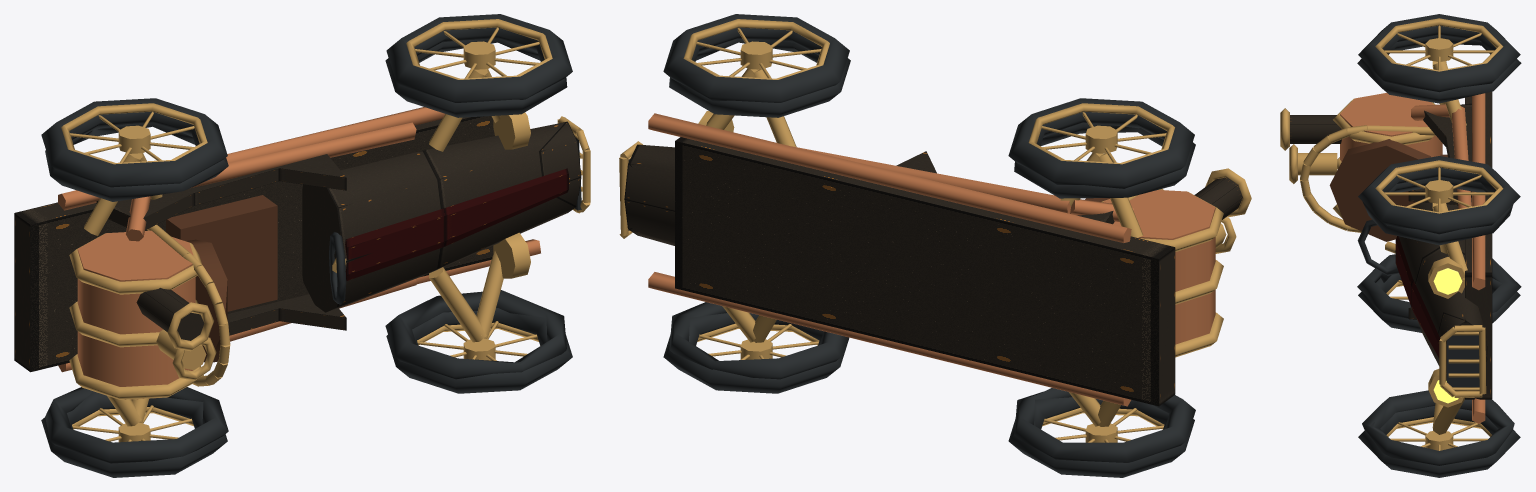
Rendered from kart-low.glb.
The picture shows the model from 3 angles, left to right: view 1: azimuth 30°, elevation 25°; view 2: azimuth 150°, elevation 25°; view 3: azimuth 270°, elevation 25°; orthographic projection. The views are drawn at different scales.
Visible parts, largest first — view 1: kart-root.001 / Riveted iron.001, kart-root.001 / Copper feed lines.001, kart-root.001 / Machined brass.001, Wheel 0 1.001 / Tire rubber.001, Wheel 0 -1.001 / Tire rubber.001, Wheel 1 1.001 / Tire rubber.001, Wheel 1 -1.001 / Tire rubber.001, kart-root.001 / Quilted leather.001, kart-root.001 / Burgundy enamel.001, Wheel 1 1.001 / Machined brass.001, Wheel 0 1.001 / Machined brass.001, Wheel 0 -1.001 / Machined brass.001 (+2 smaller); view 2: kart-root.001 / Riveted iron.001, kart-root.001 / Copper feed lines.001, Wheel 0 1.001 / Tire rubber.001, Wheel 1 1.001 / Tire rubber.001, Wheel 1 -1.001 / Tire rubber.001, kart-root.001 / Machined brass.001, Wheel 0 -1.001 / Tire rubber.001, Wheel 0 1.001 / Machined brass.001, Wheel 1 1.001 / Machined brass.001, Wheel 0 -1.001 / Machined brass.001, Wheel 1 -1.001 / Machined brass.001; view 3: kart-root.001 / Riveted iron.001, kart-root.001 / Machined brass.001, Wheel 1 1.001 / Tire rubber.001, Wheel 0 1.001 / Tire rubber.001, Wheel 0 -1.001 / Tire rubber.001, kart-root.001 / Copper feed lines.001, kart-root.001 / Quilted leather.001, Wheel 1 -1.001 / Tire rubber.001, Wheel 1 1.001 / Machined brass.001, Wheel 0 1.001 / Machined brass.001, kart-root.001 / Tire rubber.001, kart-root.001 / Burgundy enamel.001 (+2 smaller).
Part boxes in pixels (x1,y1,x2,y2): kart-root.001 / Riveted iron.001: (14,116,581,372); kart-root.001 / Copper feed lines.001: (58,107,540,399); kart-root.001 / Machined brass.001: (69,69,590,426); Wheel 0 1.001 / Tire rubber.001: (385,14,572,117); Wheel 0 -1.001 / Tire rubber.001: (385,290,572,393); Wheel 1 1.001 / Tire rubber.001: (41,98,228,201); Wheel 1 -1.001 / Tire rubber.001: (41,387,228,477); kart-root.001 / Quilted leather.001: (166,195,277,362); kart-root.001 / Burgundy enamel.001: (345,168,568,280); Wheel 1 1.001 / Machined brass.001: (61,103,207,164); Wheel 0 1.001 / Machined brass.001: (406,19,552,79); Wheel 0 -1.001 / Machined brass.001: (417,321,538,360); kart-root.001 / Riveted iron.001: (624,137,1242,406); kart-root.001 / Copper feed lines.001: (648,113,1215,406); Wheel 0 1.001 / Tire rubber.001: (663,14,850,117); Wheel 1 1.001 / Tire rubber.001: (1008,98,1195,198); Wheel 1 -1.001 / Tire rubber.001: (1008,388,1195,477); kart-root.001 / Machined brass.001: (619,68,1251,426); Wheel 0 -1.001 / Tire rubber.001: (663,302,849,393); Wheel 0 1.001 / Machined brass.001: (683,19,829,79); Wheel 1 1.001 / Machined brass.001: (1028,103,1174,164); Wheel 0 -1.001 / Machined brass.001: (697,323,819,359); Wheel 1 -1.001 / Machined brass.001: (1042,407,1164,442); kart-root.001 / Riveted iron.001: (1290,91,1492,399); kart-root.001 / Machined brass.001: (1280,61,1486,434); Wheel 1 1.001 / Tire rubber.001: (1357,14,1521,103); Wheel 0 1.001 / Tire rubber.001: (1358,156,1520,245); Wheel 0 -1.001 / Tire rubber.001: (1358,390,1520,477); kart-root.001 / Copper feed lines.001: (1340,93,1485,423); kart-root.001 / Quilted leather.001: (1329,139,1447,241); Wheel 1 -1.001 / Tire rubber.001: (1357,254,1521,332); Wheel 1 1.001 / Machined brass.001: (1375,18,1503,71); Wheel 0 1.001 / Machined brass.001: (1375,160,1503,213); kart-root.001 / Tire rubber.001: (1357,219,1479,387); kart-root.001 / Burgundy enamel.001: (1395,236,1440,358).
Size of the model in its own units: 1.52 by 0.8328 by 0.6886.
7 materials, 2 textured.
